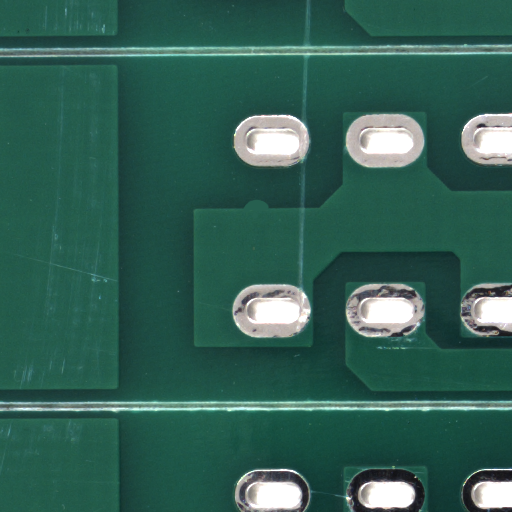Spur: (257, 204, 285, 215)
